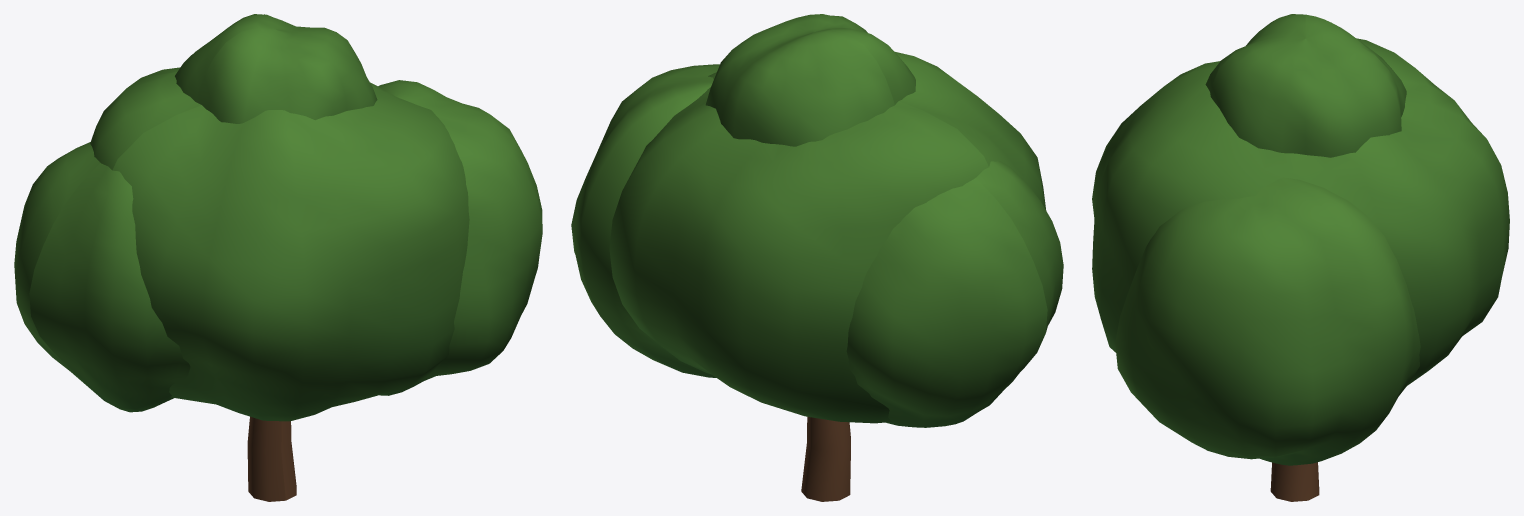
The model's file is arvore-mangueira.glb.
3 renders of one model, left to right at view 1: azimuth 30°, elevation 25°; view 2: azimuth 150°, elevation 25°; view 3: azimuth 270°, elevation 25°, orthographic.
Parts seen in each view (by area): view 1: arvore-mangueira; view 2: arvore-mangueira; view 3: arvore-mangueira.
Boxes of the visible parts, <box> form: arvore-mangueira: <box>14,14,542,501</box>; arvore-mangueira: <box>571,14,1063,501</box>; arvore-mangueira: <box>1092,14,1509,501</box>.
Bounding box in the file's own units: 11.09 × 10.21 × 8.35.
